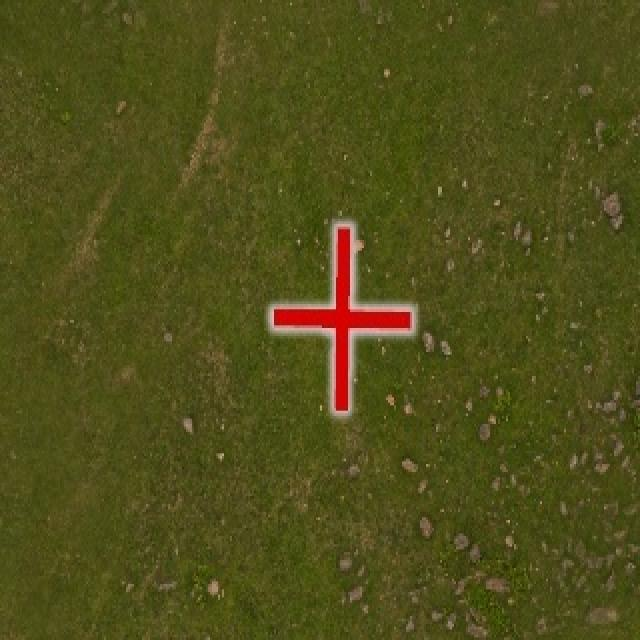x_marker: (271, 226, 411, 410)
